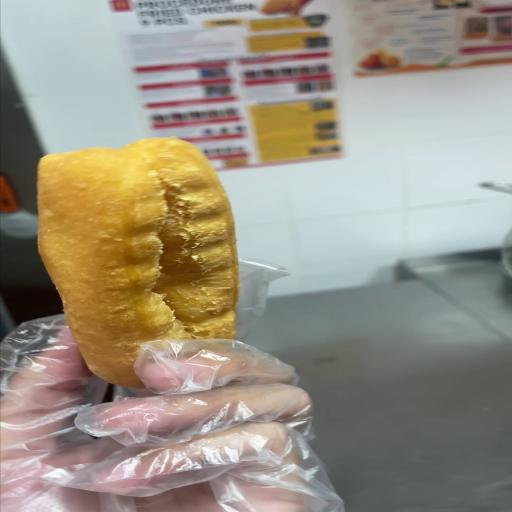brand_golden_defect: (38, 138, 239, 387)
